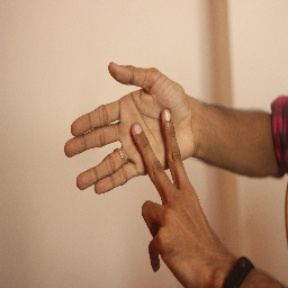N: (62, 58, 202, 249)
